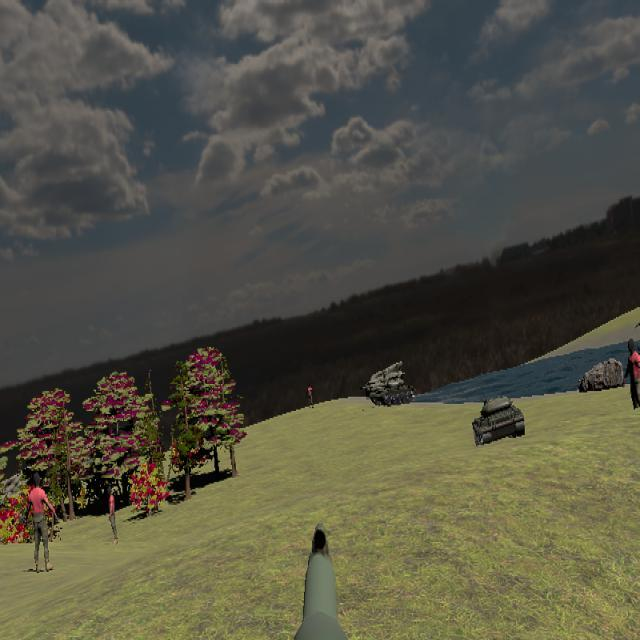Human: (25, 473, 58, 572), (625, 342, 640, 418), (107, 480, 119, 545)
Tank: (472, 394, 525, 447), (362, 376, 415, 408)
